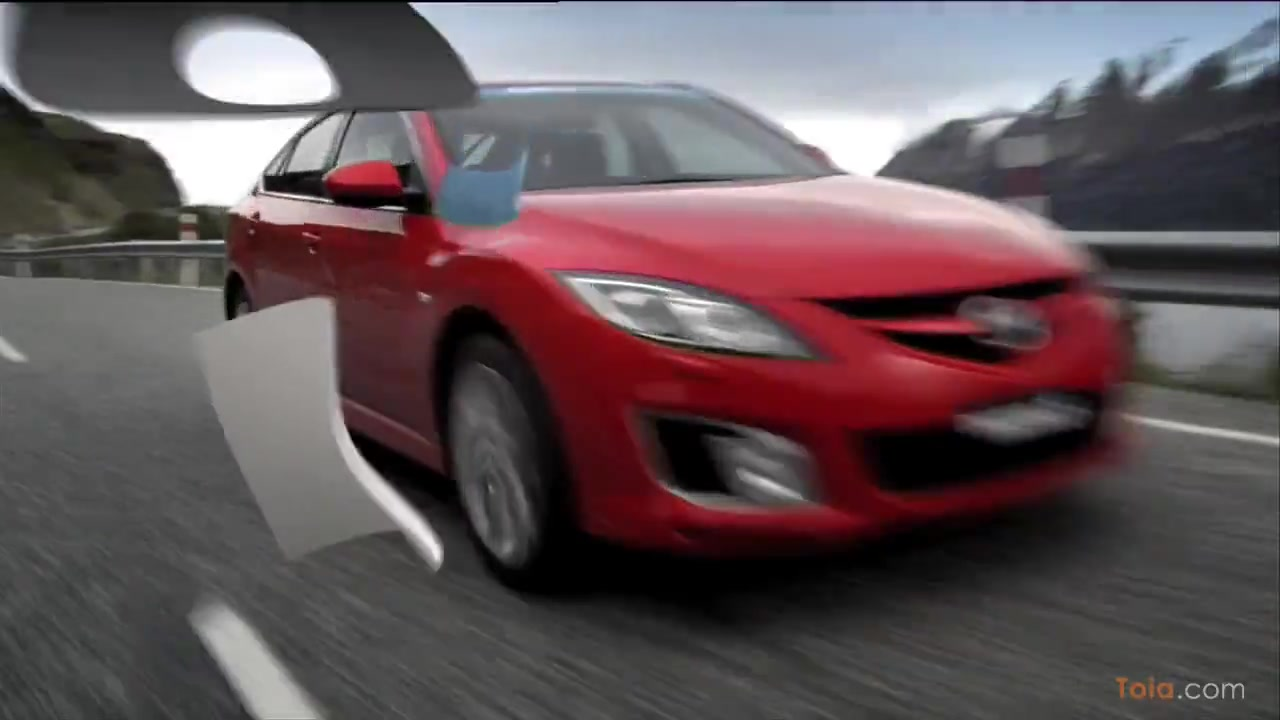car: (220, 87, 1141, 599)
